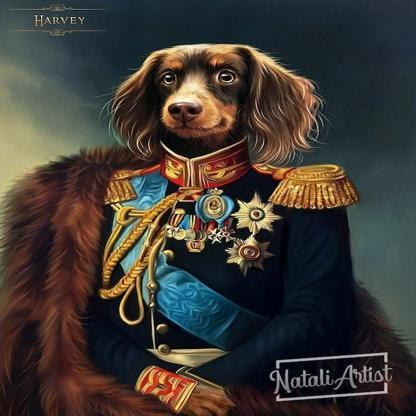dog: (100, 35, 336, 181)
person: (72, 168, 380, 416)
